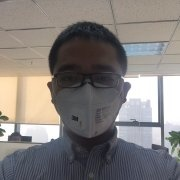Mask: (51, 65, 125, 139)
